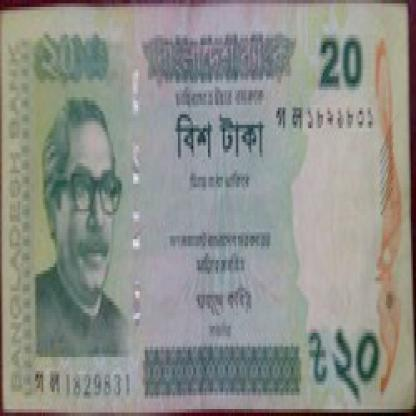Twenty: (162, 104, 284, 173), (308, 312, 383, 399), (306, 31, 375, 101), (35, 28, 118, 86)
